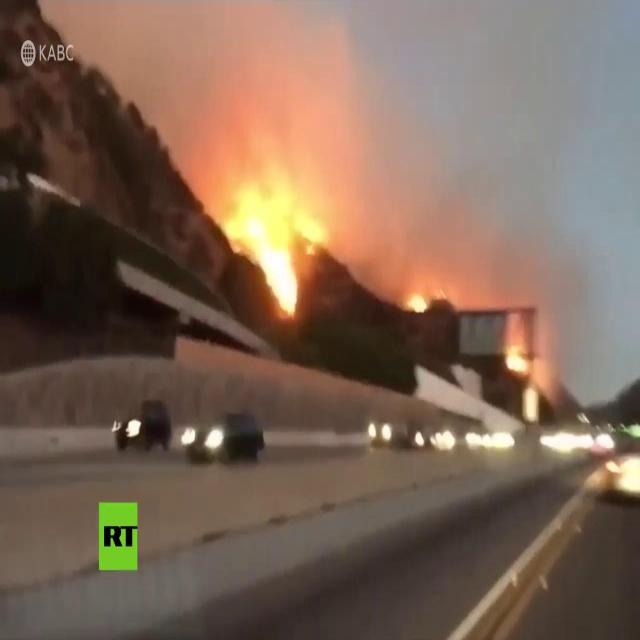Fire: (220, 180, 326, 318), (406, 289, 428, 314), (507, 346, 527, 372)
